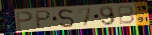7: (78, 7, 93, 27)
9: (99, 6, 117, 26)
B: (117, 5, 136, 25)
P: (15, 11, 34, 31), (35, 10, 53, 30)
S: (57, 8, 76, 29)
